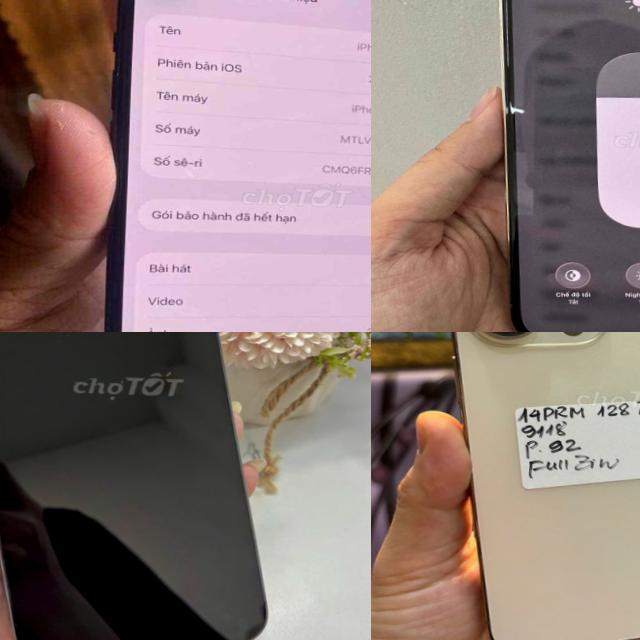gen_12_13: (478, 0, 640, 332)
gen_14: (0, 332, 295, 640), (426, 332, 640, 640)
gen_15: (95, 0, 371, 332)
